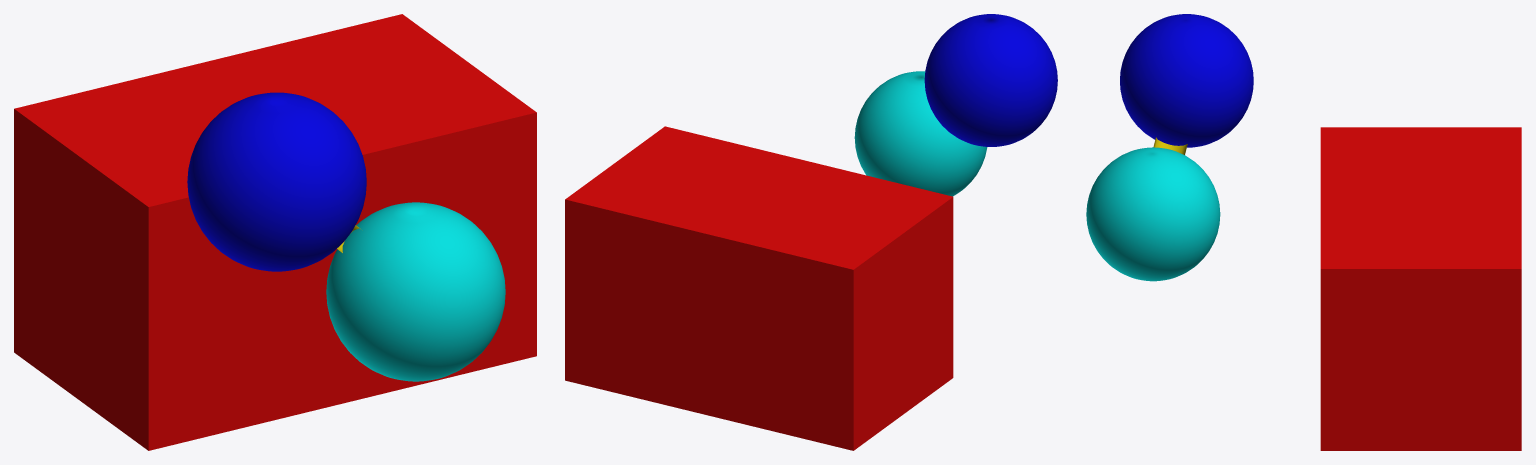
The model's file is secondofile.glb.
3 renders of one model, left to right at view 1: azimuth 30°, elevation 25°; view 2: azimuth 150°, elevation 25°; view 3: azimuth 270°, elevation 25°, orthographic. The views are drawn at different scales.
Visible parts, largest first — view 1: face-XY1-node, SphNode-node (×2), face-Top-node, face-YZ2-node; view 2: face-XY2-node, face-Top-node, SphNode-node (×2), face-YZ2-node; view 3: face-YZ1-node, face-Top-node, SphNode-node (×2).
Part boxes in pixels (x1,y1,x2,y2): face-XY1-node: (148, 112, 536, 450); SphNode-node (×2): (187, 92, 505, 381); face-Top-node: (14, 14, 536, 206); face-YZ2-node: (14, 109, 148, 450); face-XY2-node: (565, 199, 853, 450); face-Top-node: (565, 126, 952, 269); SphNode-node (×2): (854, 14, 1057, 196); face-YZ2-node: (853, 197, 953, 450); face-YZ1-node: (1320, 269, 1521, 450); face-Top-node: (1320, 127, 1521, 268); SphNode-node (×2): (1086, 14, 1253, 281).
Bounding box in the file's own units: 11 × 10 × 13.
